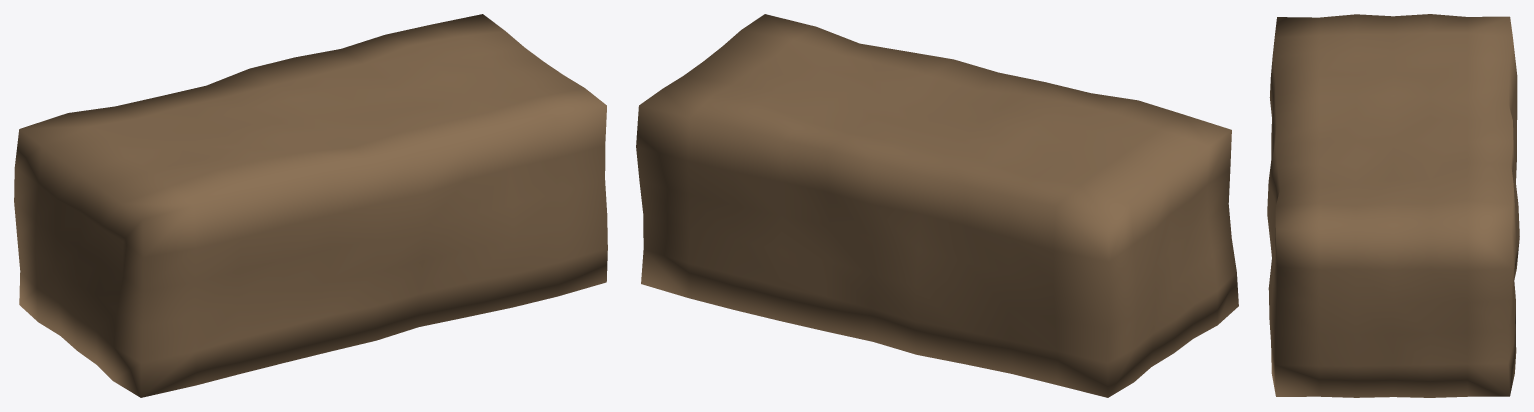
File: rectangular_route_rock.glb
The picture shows the model from 3 angles, left to right: view 1: azimuth 30°, elevation 25°; view 2: azimuth 150°, elevation 25°; view 3: azimuth 270°, elevation 25°; orthographic projection. The views are drawn at different scales.
Visible parts, largest first — view 1: RectangularRouteRock-col; view 2: RectangularRouteRock-col; view 3: RectangularRouteRock-col.
Boxes of the visible parts, x1,y1,x2,y2 form: RectangularRouteRock-col: [14, 14, 607, 397]; RectangularRouteRock-col: [636, 14, 1238, 397]; RectangularRouteRock-col: [1267, 14, 1519, 397].
Bounding box in the file's own units: 10.57 × 3.91 × 5.1.
